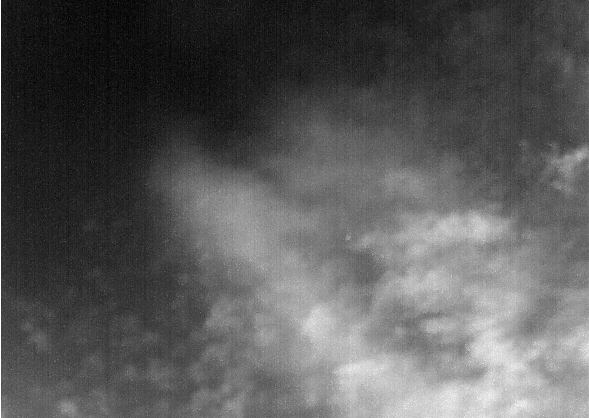dim target: (344, 233, 352, 242)
